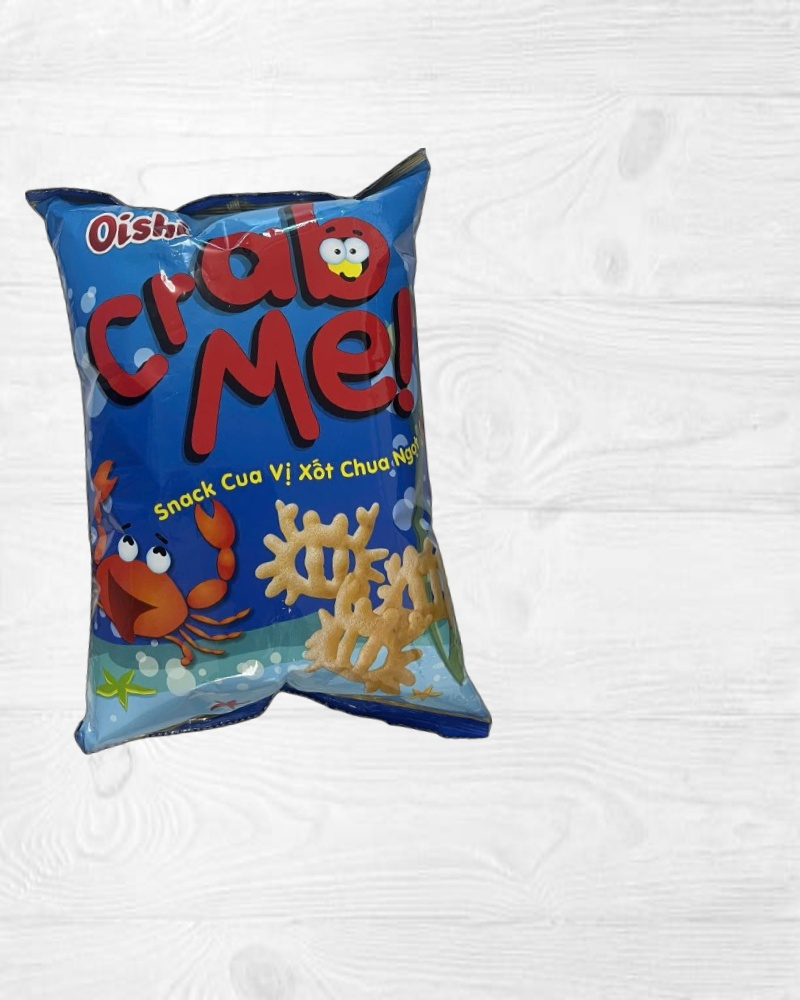Snack chay: (25, 147, 494, 775)
